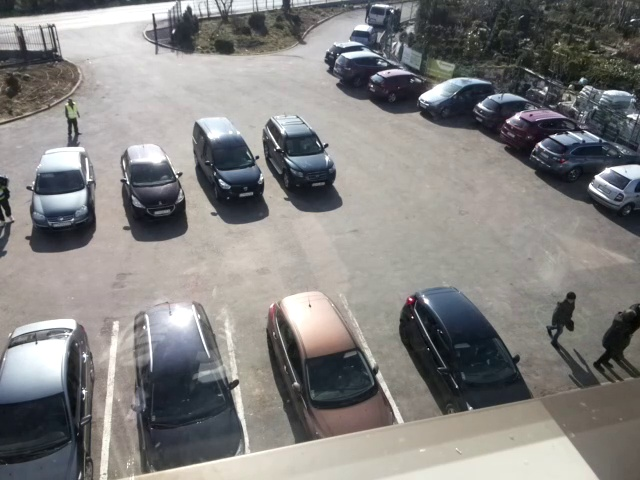car: (132, 301, 246, 474), (266, 290, 395, 441), (399, 286, 533, 415), (1, 315, 94, 477), (192, 115, 266, 206), (261, 114, 336, 193), (30, 146, 96, 232), (529, 128, 633, 181), (120, 144, 186, 222), (496, 109, 596, 152), (418, 77, 498, 122), (587, 162, 640, 216), (474, 93, 545, 131), (331, 50, 405, 86), (368, 69, 430, 105), (322, 43, 374, 70), (366, 3, 402, 27), (350, 24, 379, 46)
